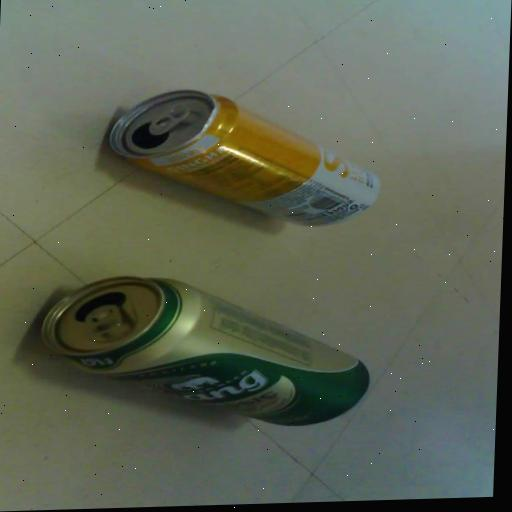canned: (38, 263, 387, 442), (96, 72, 392, 238)
